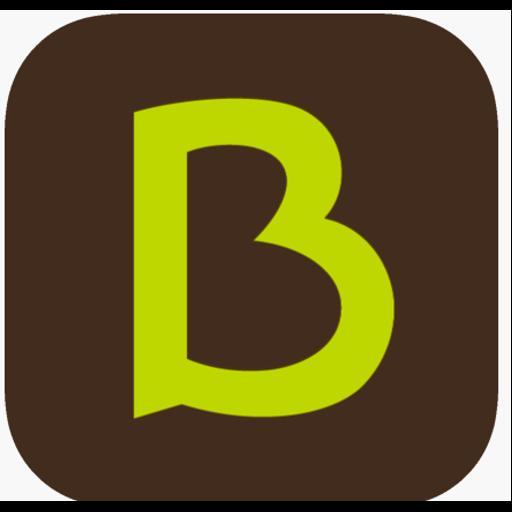Bankia: (0, 10, 511, 501)
